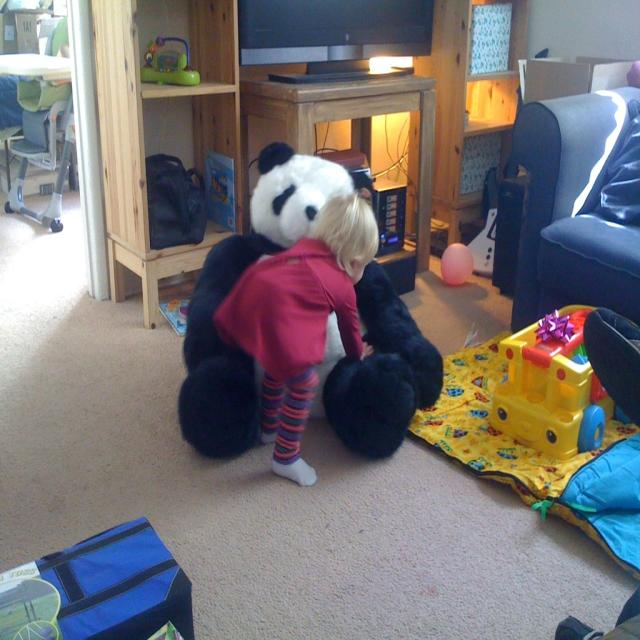panda: (176, 141, 447, 461)
